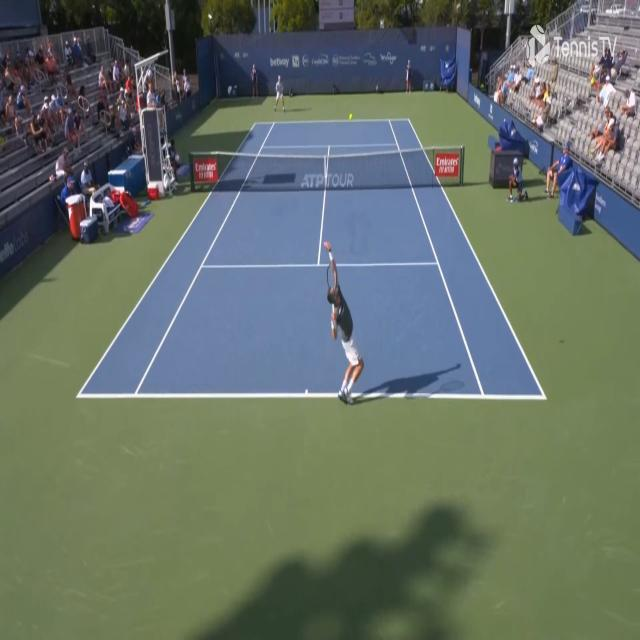tennis-player: (324, 234, 366, 410), (274, 76, 286, 114)
